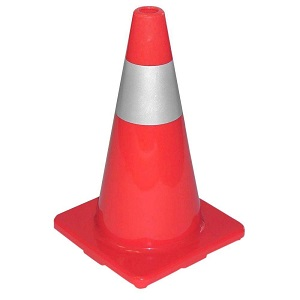traffic cone: (54, 6, 245, 289)
